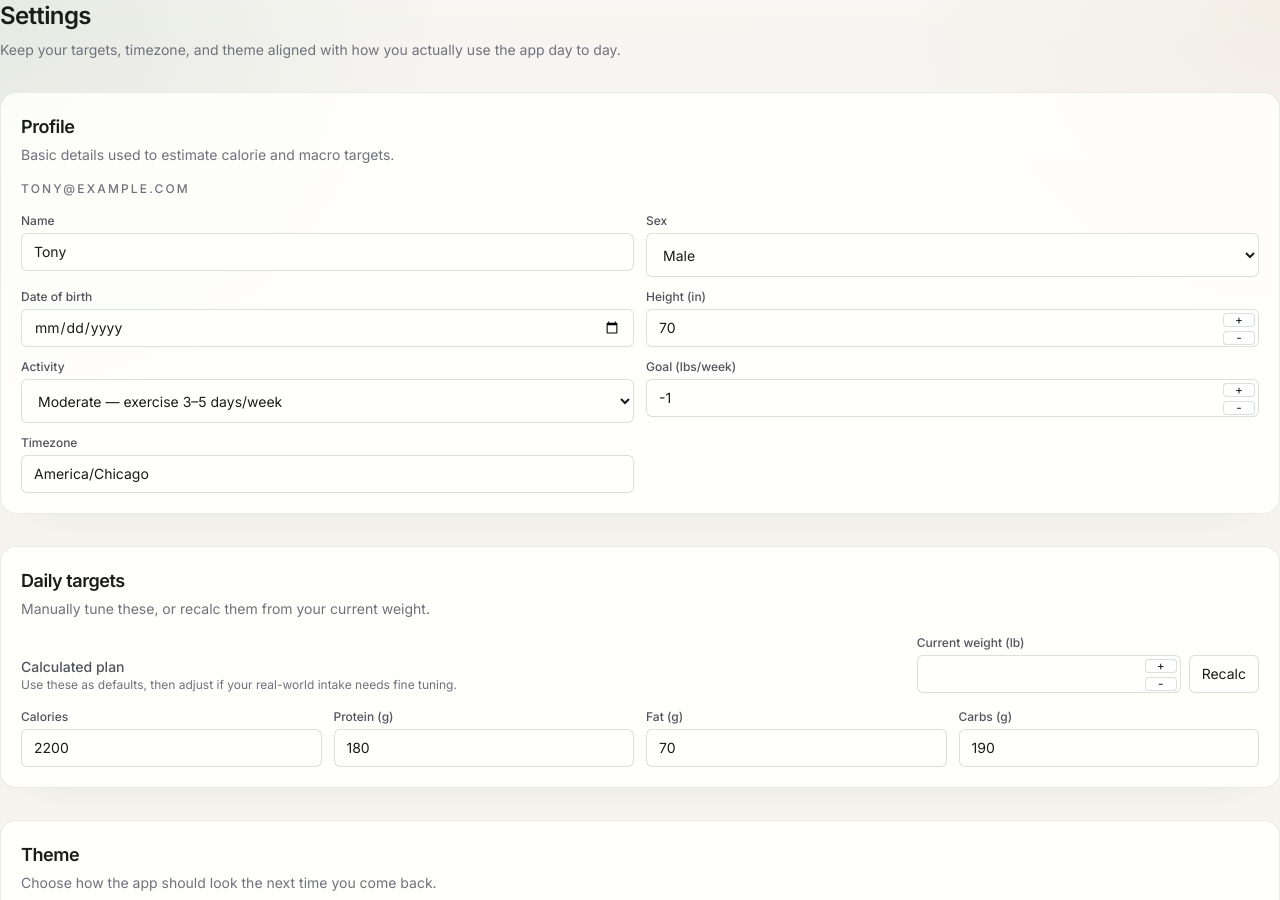
it: SettingsView › shows recalc errors when profile data is incomplete
Expected: the text "Daily targets" is shown, [21,570,125,591]
Type "205" into the field below "Current weight (lb)" at (1049, 674), box [917,655,1181,693]
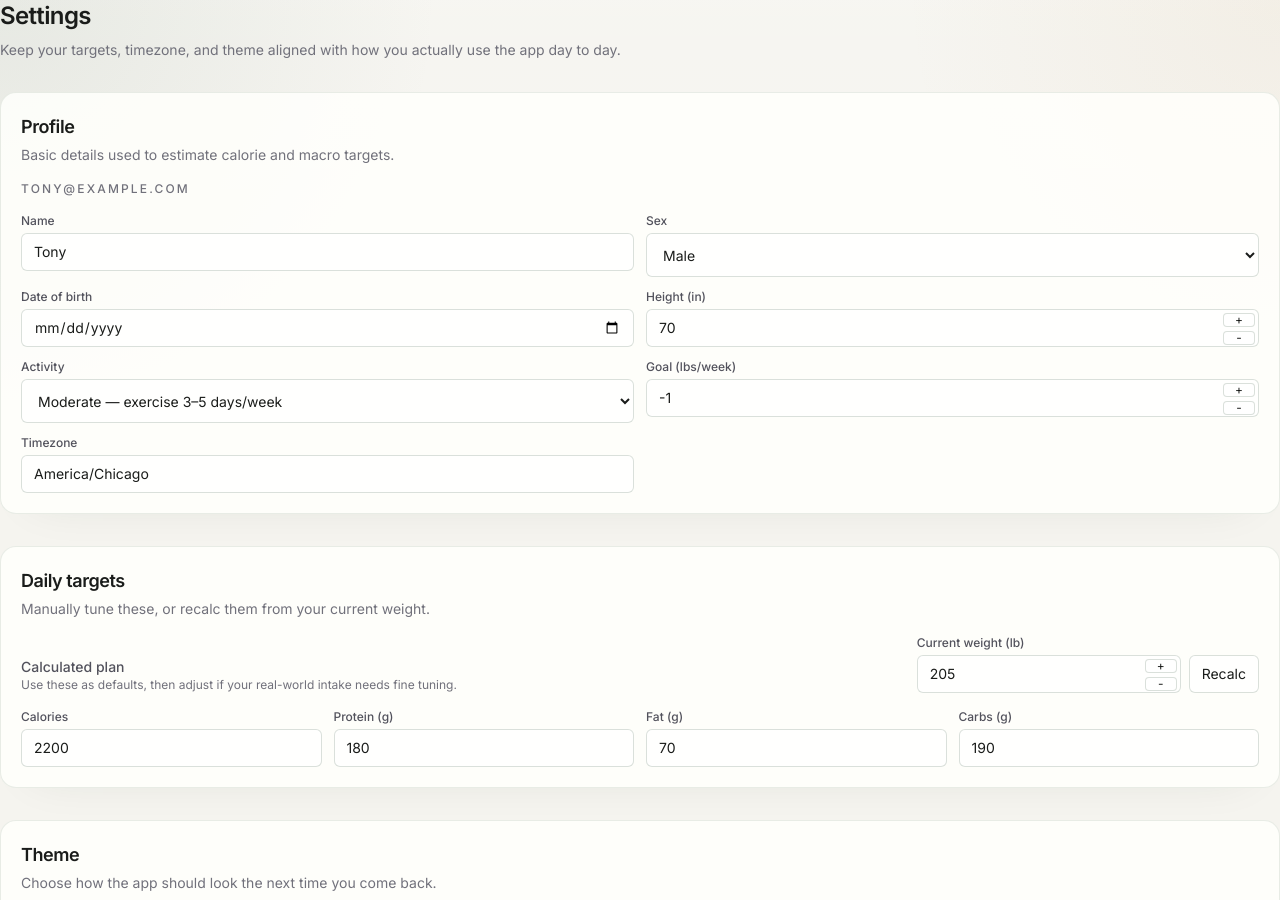
Click the button "Recalc" at (1224, 674), box [1189,655,1259,693]
(page scrolled)
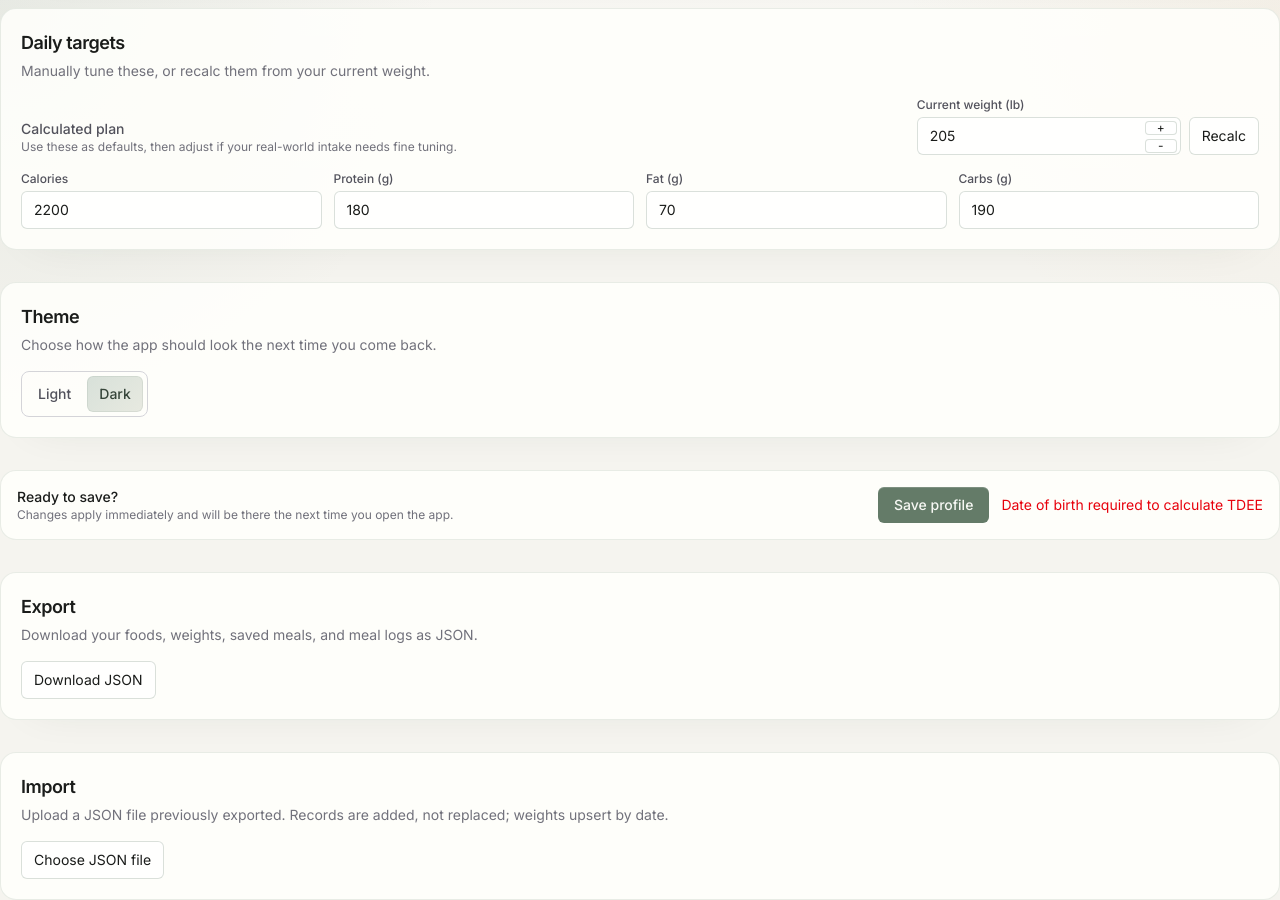
Now the text "Date of birth required to calculate TDEE" is shown, box [1001,495,1263,515]
